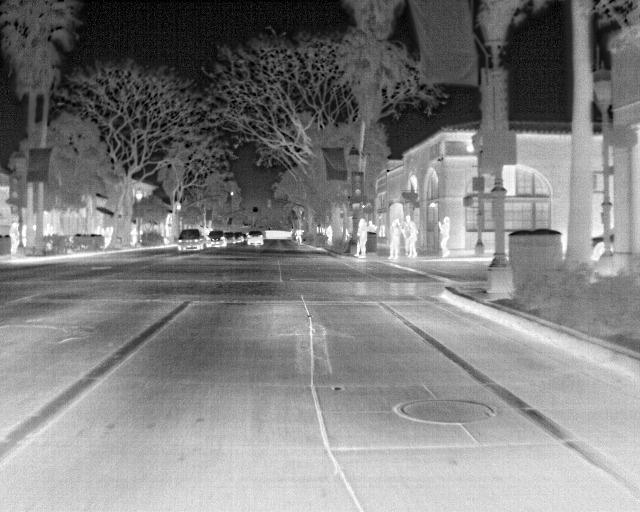bicycle: (176, 228, 206, 254), (204, 229, 226, 249), (244, 229, 265, 248)
empty: (435, 213, 454, 260), (385, 219, 403, 263), (355, 219, 368, 261), (403, 223, 417, 258), (8, 221, 21, 255)
